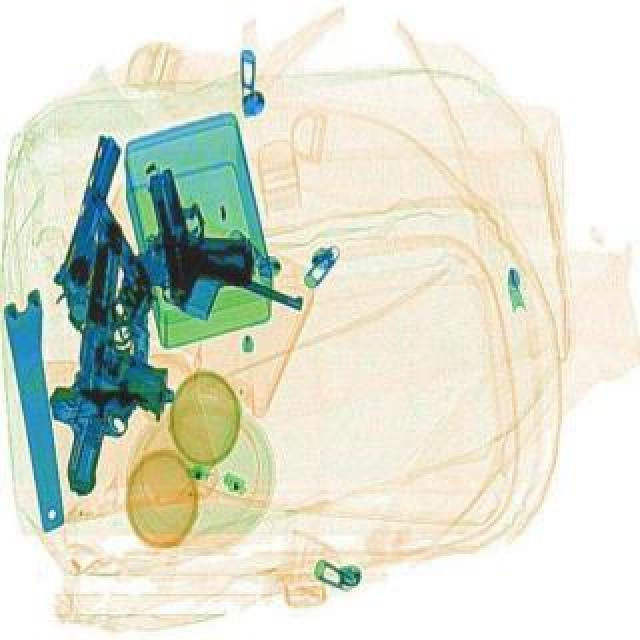gun: (32, 132, 196, 374), (110, 228, 306, 374), (26, 184, 176, 344), (70, 236, 184, 418), (144, 154, 260, 302), (42, 382, 174, 498)
